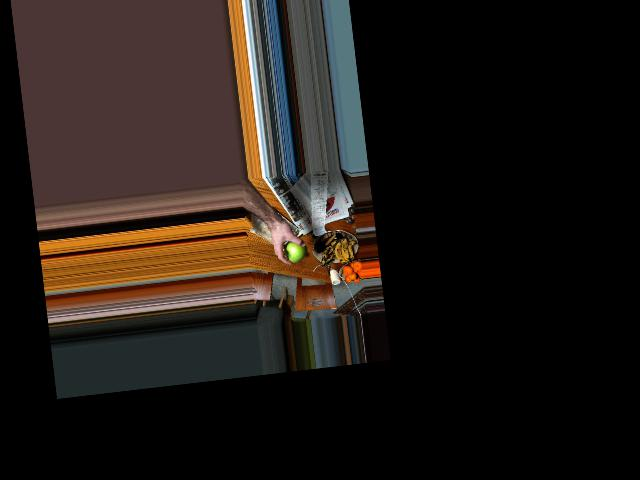apple: (283, 238, 306, 264)
